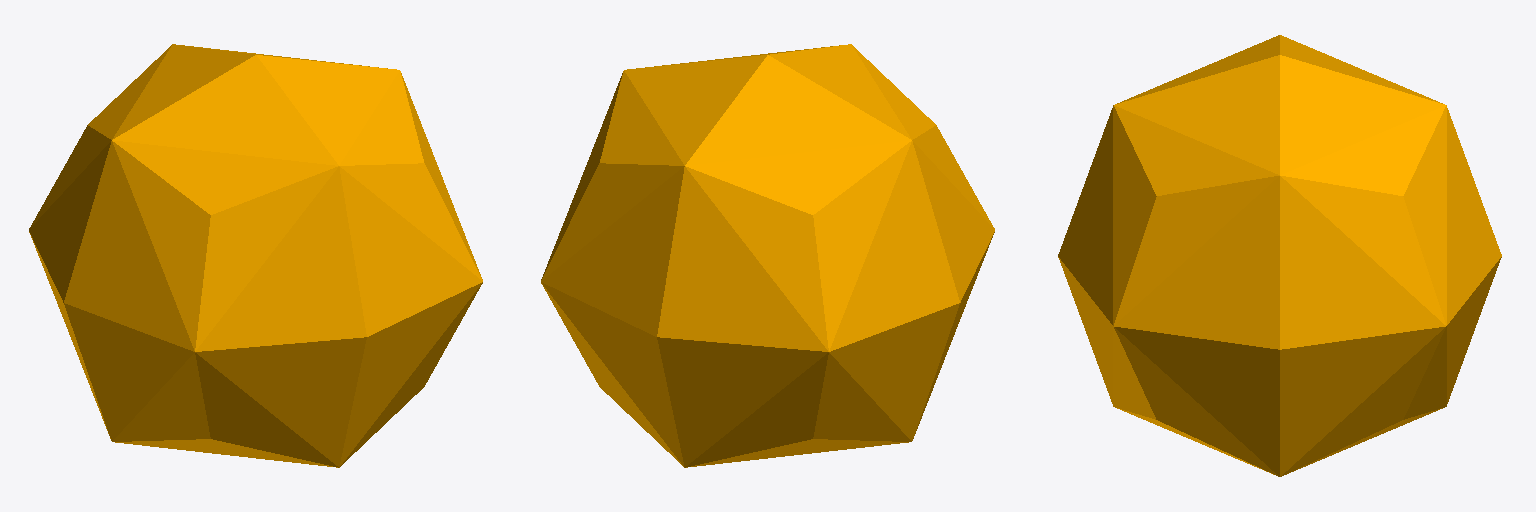
Rendered from bullet.obj.
The picture shows the model from 3 angles: view 1: azimuth 30°, elevation 25°; view 2: azimuth 150°, elevation 25°; view 3: azimuth 270°, elevation 25°; orthographic projection.
Visible parts, largest first — view 1: Bullet; view 2: Bullet; view 3: Bullet.
Boxes of the visible parts, x1,y1,x2,y2 form: Bullet: [29, 44, 482, 467]; Bullet: [541, 44, 994, 467]; Bullet: [1058, 35, 1501, 476].
Size of the model in its own units: 0.0208 by 0.0208 by 0.0208.